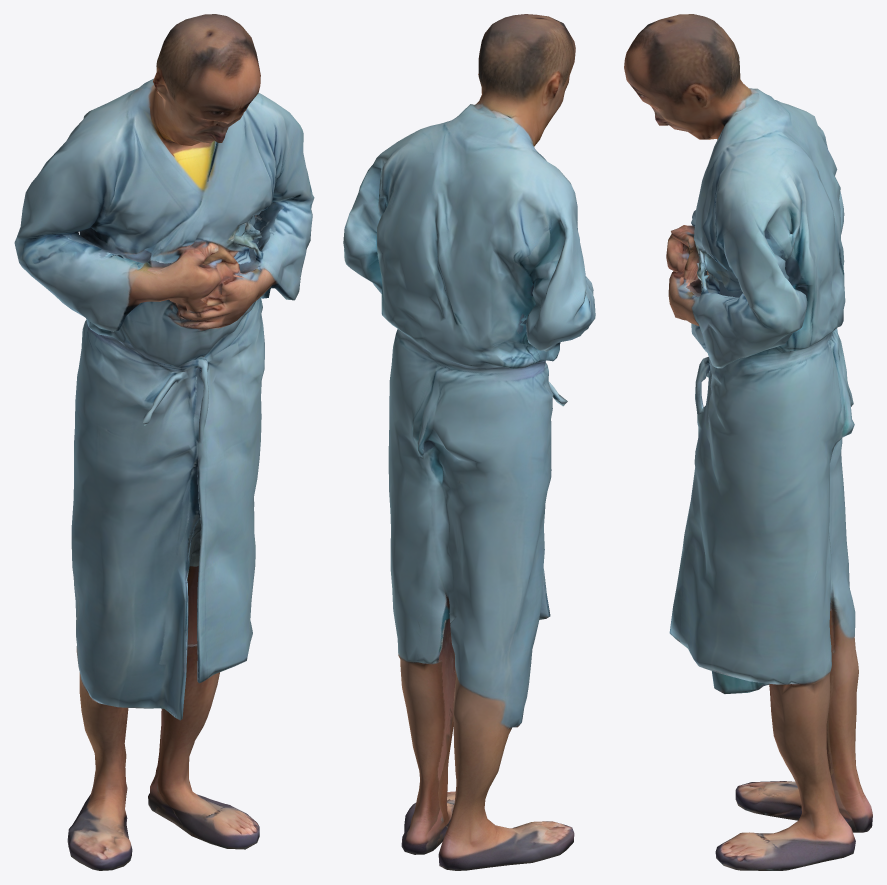
The model's file is patient_hurt_holding_his_stomach.glb.
3 renders of one model, left to right at view 1: azimuth 30°, elevation 25°; view 2: azimuth 150°, elevation 25°; view 3: azimuth 270°, elevation 25°, orthographic. The views are drawn at different scales.
Parts seen in each view (by area): view 1: Object_4; view 2: Object_4; view 3: Object_4.
Boxes of the visible parts, bbox=[...] form: Object_4: bbox=[14, 14, 314, 870]; Object_4: bbox=[343, 14, 595, 870]; Object_4: bbox=[624, 14, 872, 870].
Size of the model in its own units: 0.6812 by 2 by 0.5549.
Materials: 1 (1 with a texture image).
